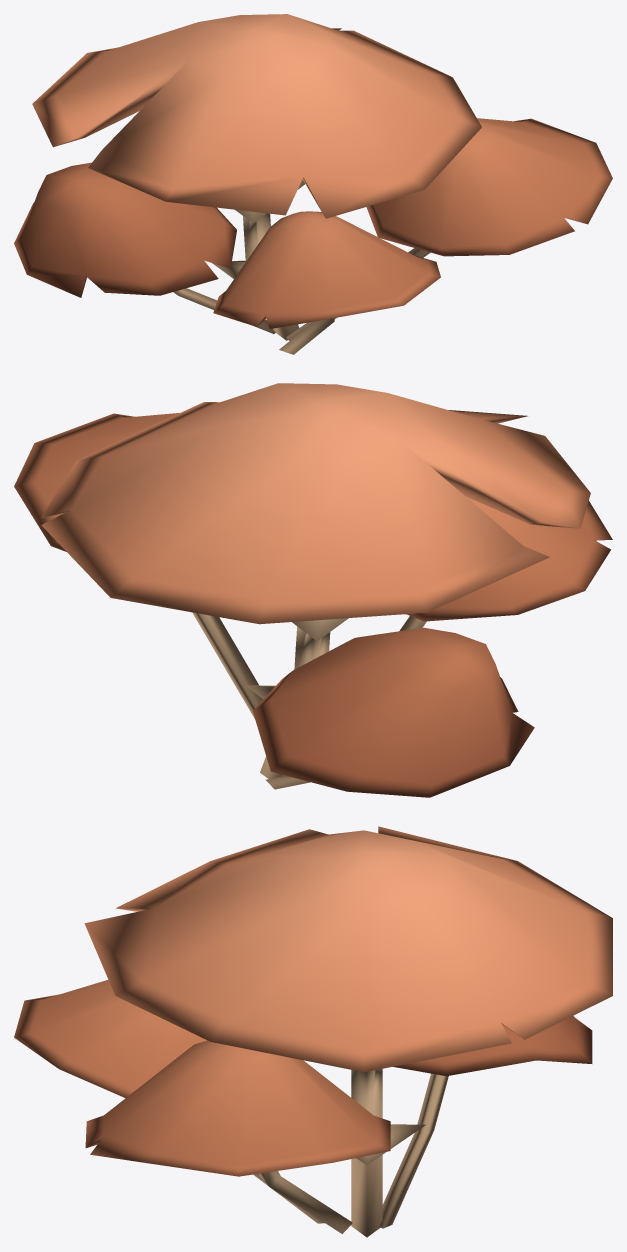
The picture shows the model from 3 angles, top to bottom: view 1: azimuth 30°, elevation 25°; view 2: azimuth 150°, elevation 25°; view 3: azimuth 270°, elevation 25°; orthographic projection. The views are drawn at different scales.
Parts seen in each view (by area): view 1: fp29; view 2: fp29; view 3: fp29.
Boxes of the visible parts, x1,y1,x2,y2 form: fp29: (14,14,612,354); fp29: (14,383,612,797); fp29: (14,826,612,1237).
Bounding box in the file's own units: 52.06 × 32.34 × 48.62.
